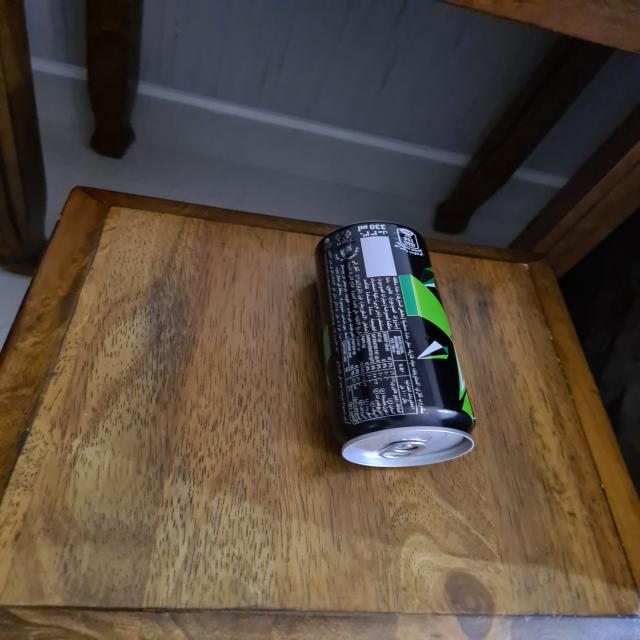non-organic waste: (303, 216, 487, 477)
